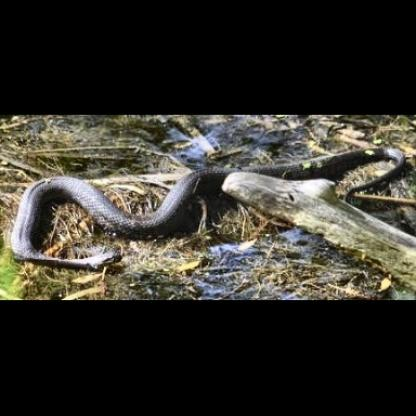Snake: (3, 128, 414, 266)
